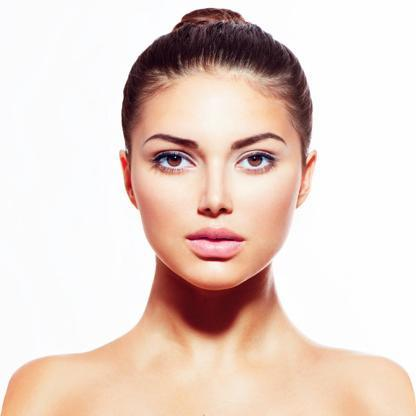person: (1, 3, 416, 415)
